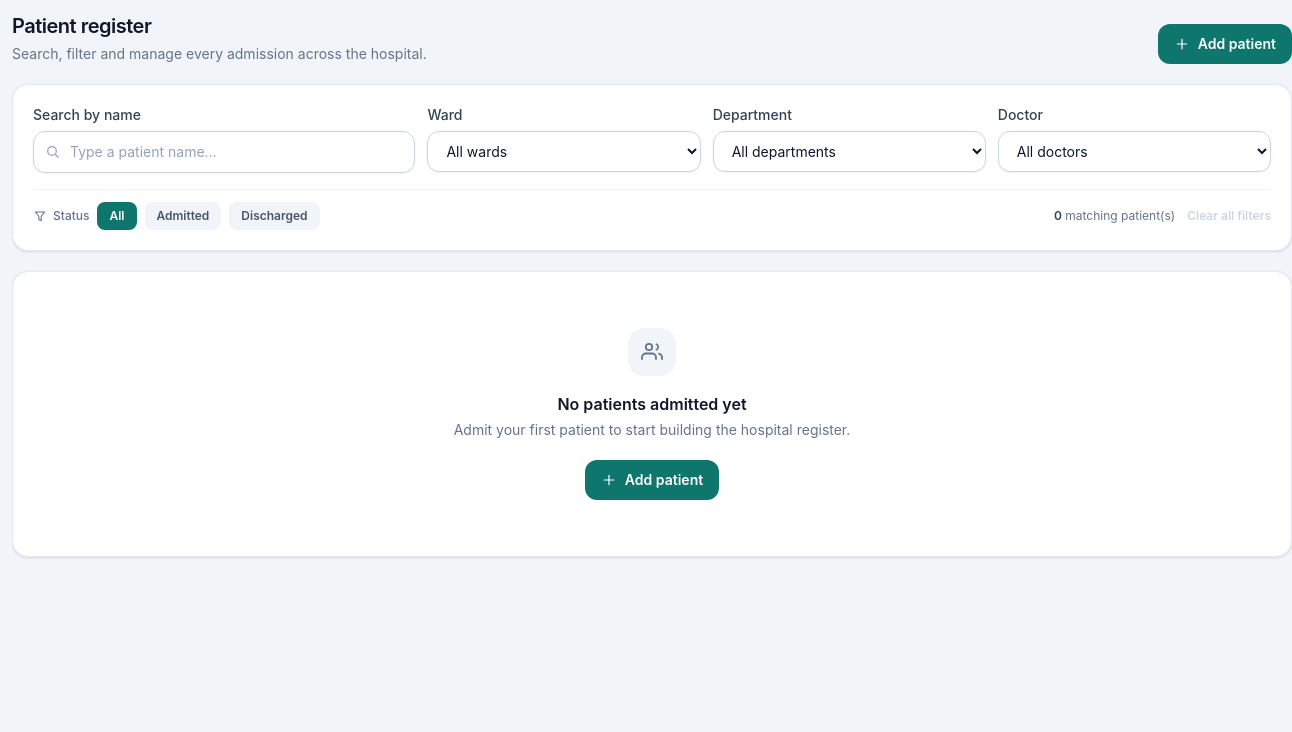
Test: PatientsPage › shows a distinct message when filters match nothing
Expected: the heading "No patients admitted yet" is shown, [557,392,747,416]
In the search field labelled "Search by name": {"x": 224, "y": 152} [33,131,416,173], type "zzz"
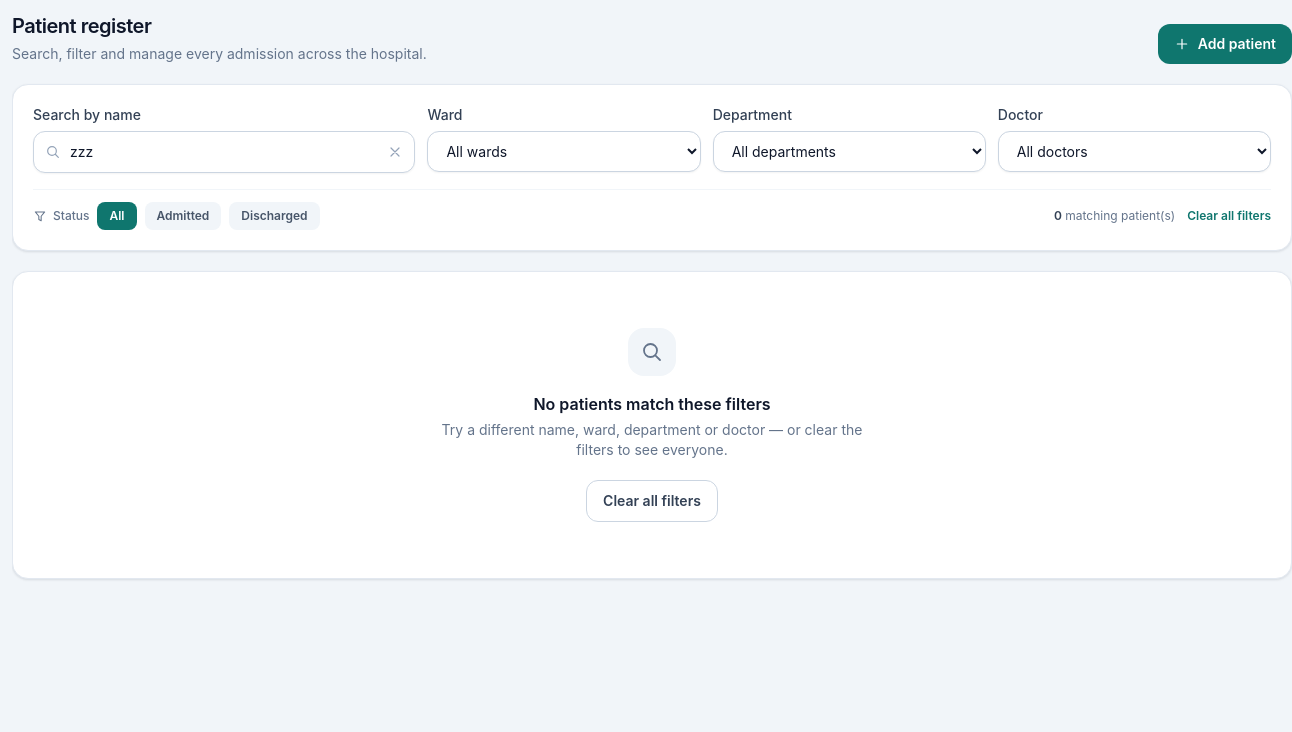
Expected: the heading "No patients match these filters" is shown, [533,392,770,416]
